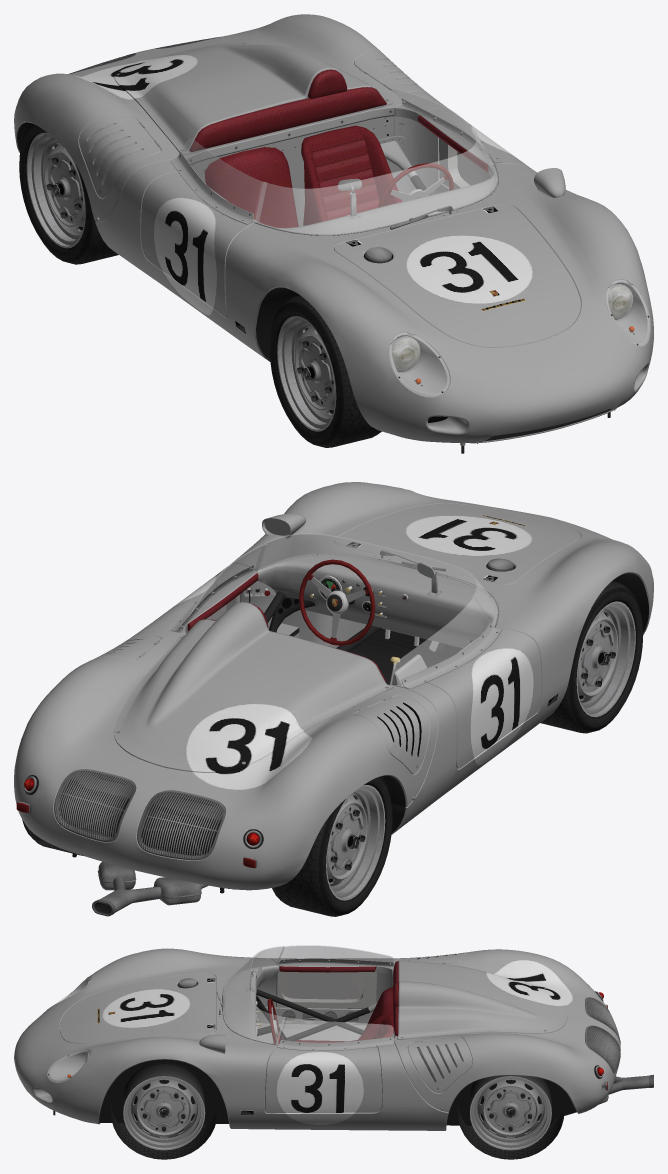
File: 718-rsk.glb
3 renders of one model, top to bottom at view 1: azimuth 30°, elevation 25°; view 2: azimuth 150°, elevation 25°; view 3: azimuth 270°, elevation 25°, orthographic. The views are drawn at different scales.
Visible parts, largest first — view 1: Object_21, Object_25, Object_23, Object_6, Object_4, Object_37, Object_19, Object_5, Object_33; view 2: Object_21, Object_25, Object_37, Object_6, Object_4, Object_23, Object_5, Object_19; view 3: Object_21, Object_6, Object_25, Object_23, Object_19, Object_4, Object_37, Object_33.
Boxes of the visible parts, x1,y1,x2,y2 form: Object_21: [14, 14, 653, 442]; Object_25: [189, 69, 490, 228]; Object_23: [181, 88, 649, 396]; Object_6: [26, 132, 336, 431]; Object_4: [19, 123, 381, 447]; Object_37: [68, 36, 634, 386]; Object_19: [17, 122, 447, 422]; Object_5: [256, 182, 616, 453]; Object_33: [96, 43, 649, 443]; Object_21: [14, 482, 653, 916]; Object_25: [187, 559, 479, 685]; Object_37: [16, 550, 498, 868]; Object_6: [326, 601, 635, 900]; Object_4: [22, 581, 643, 916]; Object_23: [178, 533, 497, 686]; Object_5: [59, 518, 515, 893]; Object_19: [95, 573, 648, 913]; Object_21: [14, 948, 653, 1130]; Object_6: [123, 1061, 551, 1150]; Object_25: [246, 961, 398, 1044]; Object_23: [48, 945, 393, 1081]; Object_19: [99, 1059, 576, 1125]; Object_4: [110, 1099, 564, 1159]; Object_37: [65, 962, 620, 1090]; Object_33: [48, 959, 546, 1114].
Size of the model in its own units: 1.51 by 0.9289 by 3.8.
Materials: 10 (9 with a texture image).
